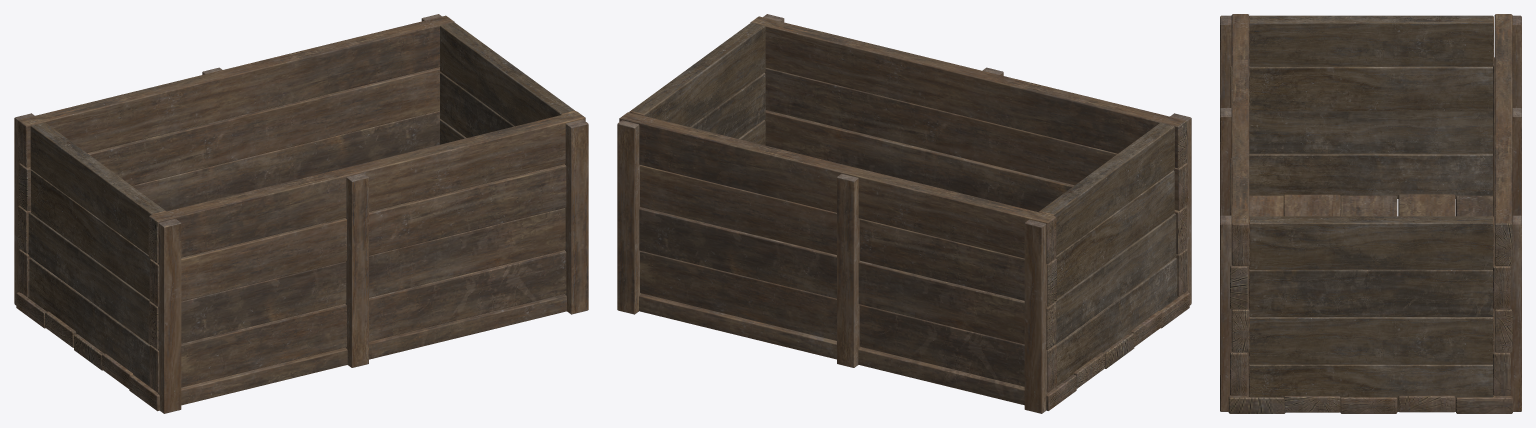
The picture shows the model from 3 angles, left to right: view 1: azimuth 30°, elevation 25°; view 2: azimuth 150°, elevation 25°; view 3: azimuth 270°, elevation 25°; orthographic projection.
Parts seen in each view (by area): view 1: SM_Box_C_LOD0; view 2: SM_Box_C_LOD0; view 3: SM_Box_C_LOD0.
Boxes of the visible parts, x1,y1,x2,y2 form: SM_Box_C_LOD0: (14, 14, 588, 413); SM_Box_C_LOD0: (617, 14, 1191, 413); SM_Box_C_LOD0: (1220, 14, 1521, 413).
Bounding box in the file's own units: 152 × 91.79 × 63.8.
1 material, 1 textured.
